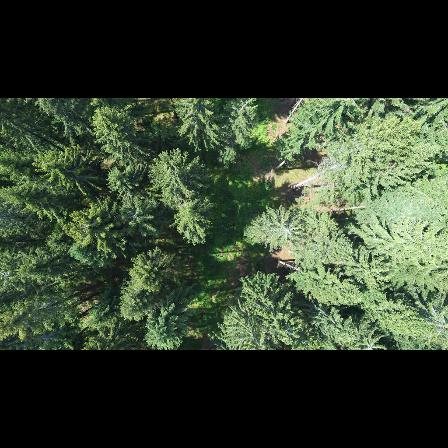Sick: (264, 208, 309, 253)
